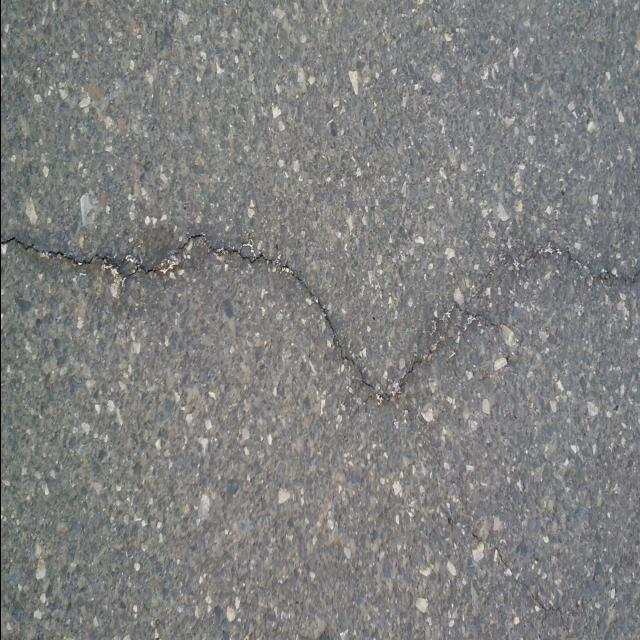Crack: (0, 230, 640, 410)
